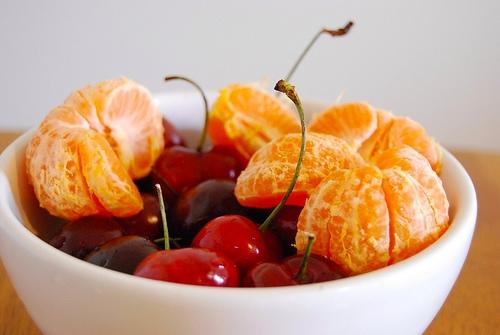cherry: (133, 183, 241, 287), (167, 178, 264, 248), (190, 215, 285, 279), (153, 145, 248, 206), (242, 236, 348, 288), (82, 236, 180, 276), (111, 192, 178, 250), (48, 215, 126, 260), (274, 206, 303, 244), (162, 116, 188, 148)
mandarin: (25, 74, 166, 220), (291, 166, 390, 277), (234, 132, 364, 210), (305, 101, 439, 174), (207, 82, 302, 168)
